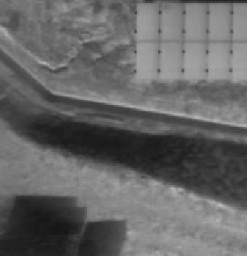solar: (133, 39, 162, 82), (157, 39, 186, 82), (181, 38, 210, 81), (204, 38, 233, 81), (205, 1, 234, 43), (182, 1, 211, 43), (157, 1, 186, 43), (134, 1, 163, 43)
